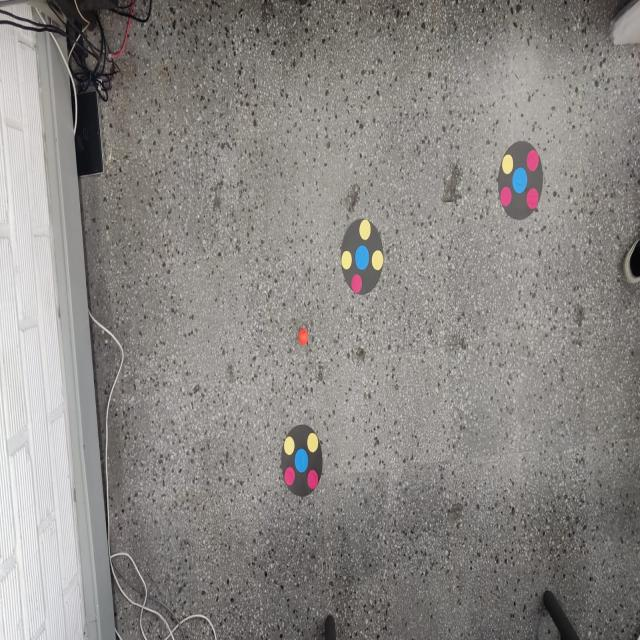0: (499, 139, 544, 222)
1: (280, 426, 323, 496)
2: (340, 215, 384, 296)
Ball: (297, 325, 310, 350)
